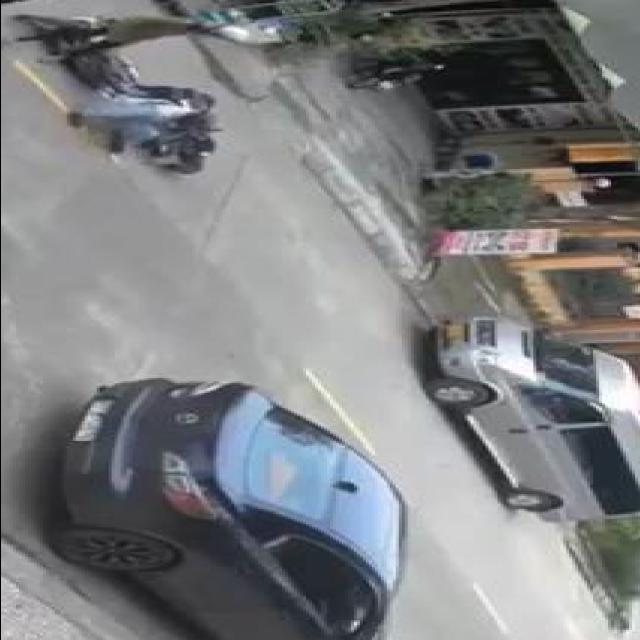accident: (0, 7, 272, 179)
